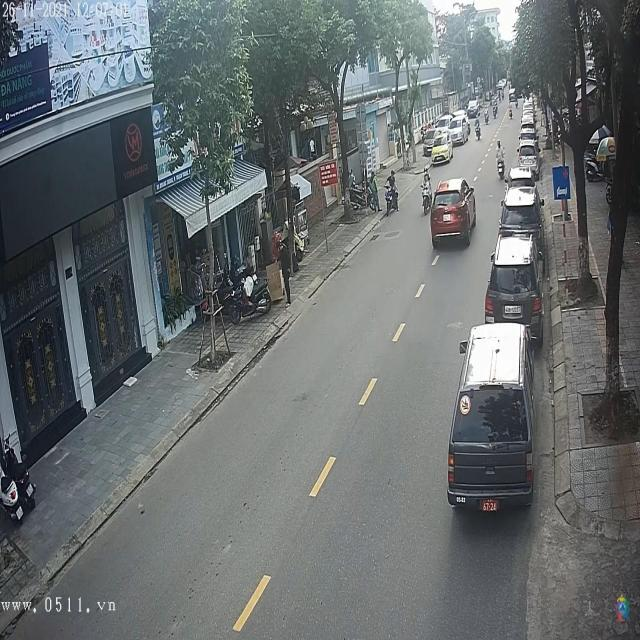car: (445, 321, 531, 507), (485, 235, 544, 331), (431, 179, 479, 249), (499, 187, 544, 237)
motorcycle: (384, 182, 400, 215), (422, 177, 432, 213)
